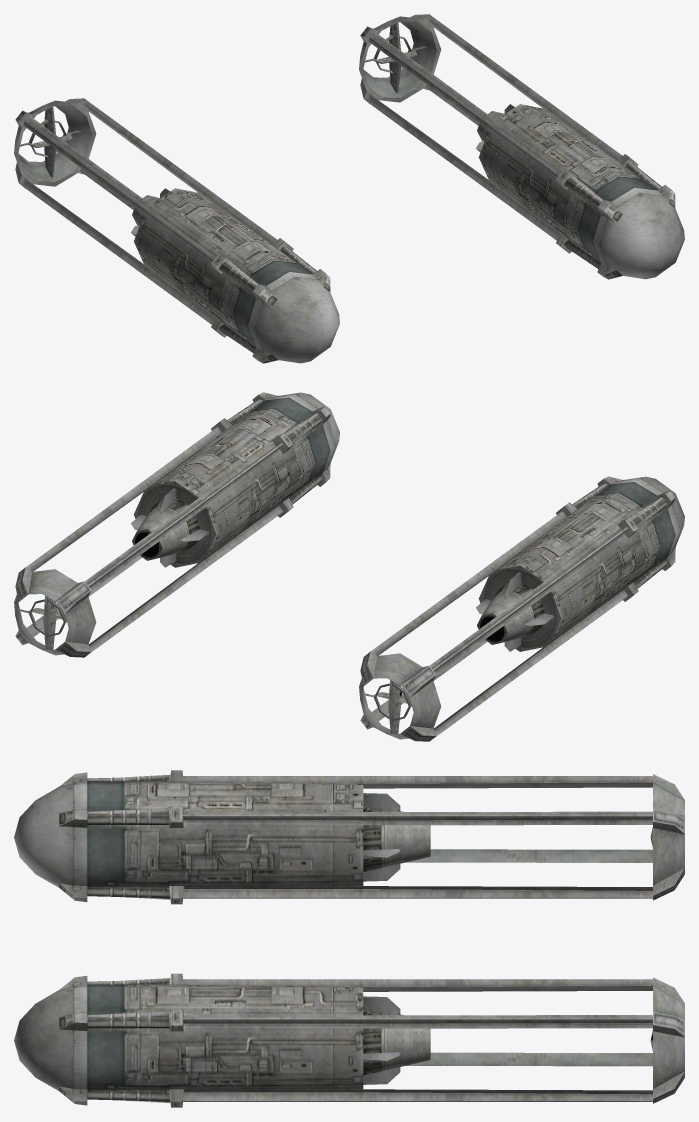
File: ywing_engine_s01_l1.fbx
The picture shows the model from 3 angles, top to bottom: view 1: azimuth 30°, elevation 25°; view 2: azimuth 150°, elevation 25°; view 3: azimuth 270°, elevation 25°; orthographic projection. The views are drawn at different scales.
Parts seen in each view (by area): view 1: mesh_node; view 2: mesh_node; view 3: mesh_node.
Part boxes in pixels (x1,y1,x2,y2): mesh_node: [14, 14, 684, 363]; mesh_node: [14, 392, 684, 741]; mesh_node: [14, 770, 684, 1107].
Size of the model in its own units: 11.85 by 2.29 by 13.33.
Materials: 1 (1 with a texture image).
